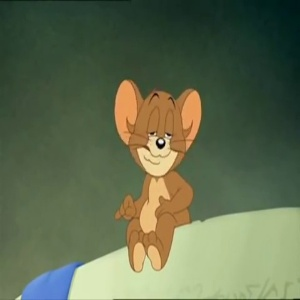Jerry: (101, 68, 209, 176)
